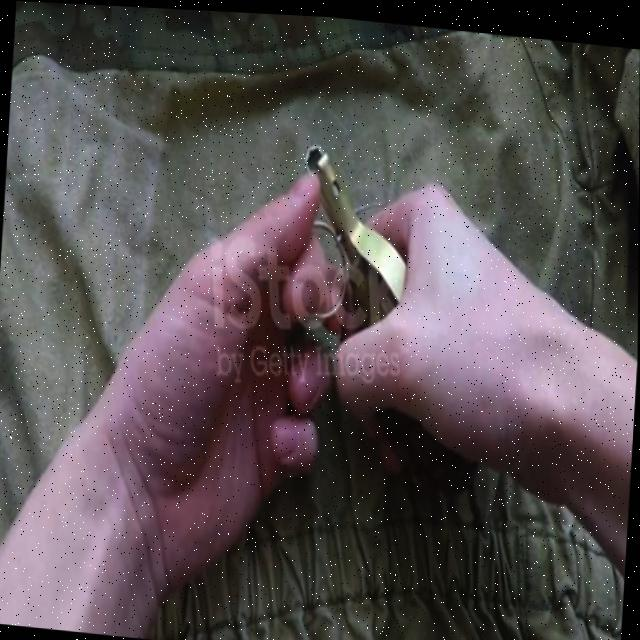grenade: (285, 124, 504, 505)
